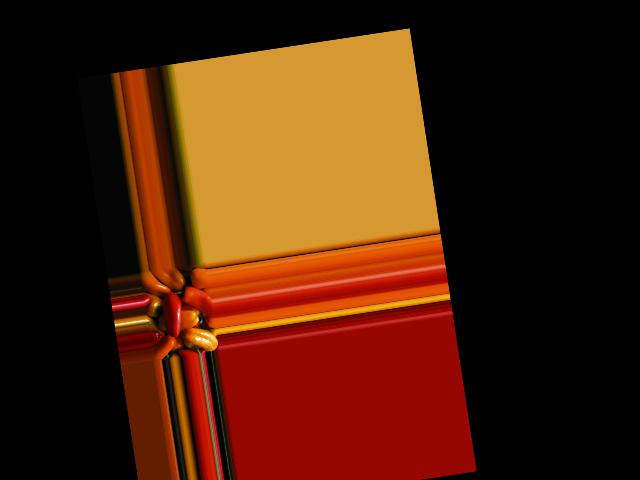bell_pepper: (183, 322, 218, 355)
